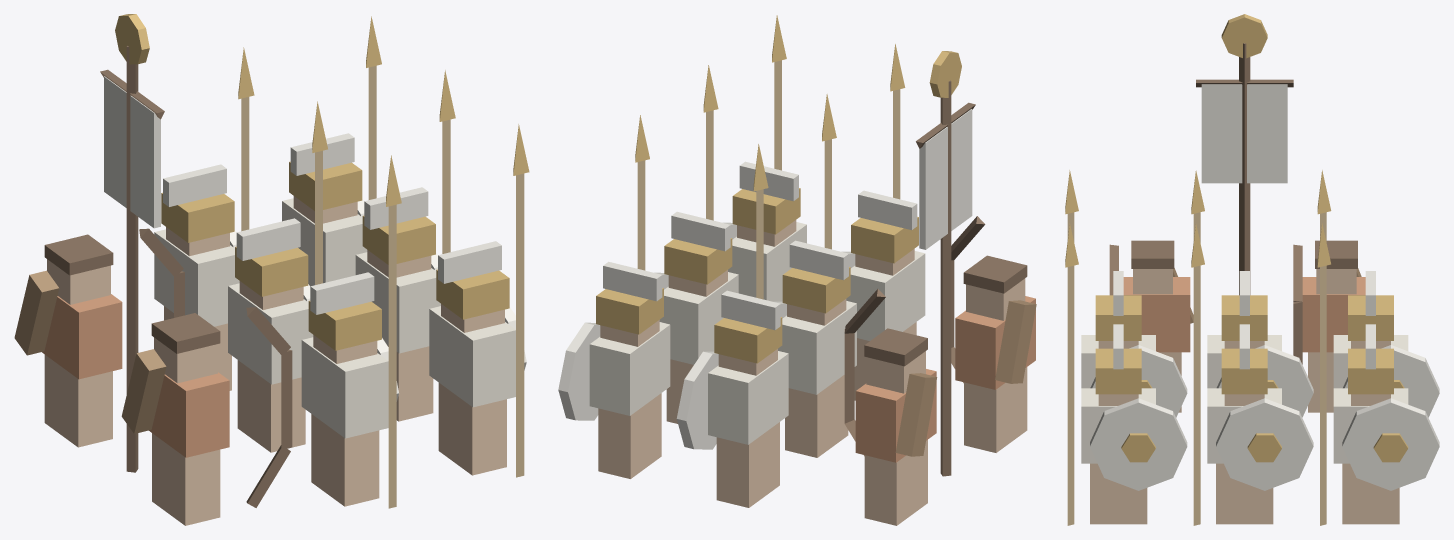
Rendered from army.glb.
3 views of the same model, side by side, from view 1: azimuth 30°, elevation 25°; view 2: azimuth 150°, elevation 25°; view 3: azimuth 270°, elevation 25° (orthographic). The views are drawn at different scales.
Parts seen in each view (by area): view 1: ancient_army; view 2: ancient_army; view 3: ancient_army.
Part boxes in pixels (x1,y1,x2,y2): ancient_army: [14, 14, 529, 525]; ancient_army: [558, 15, 1036, 525]; ancient_army: [1065, 14, 1439, 525].
Bounding box in the file's own units: 0.8023 × 0.9995 × 0.8702.
